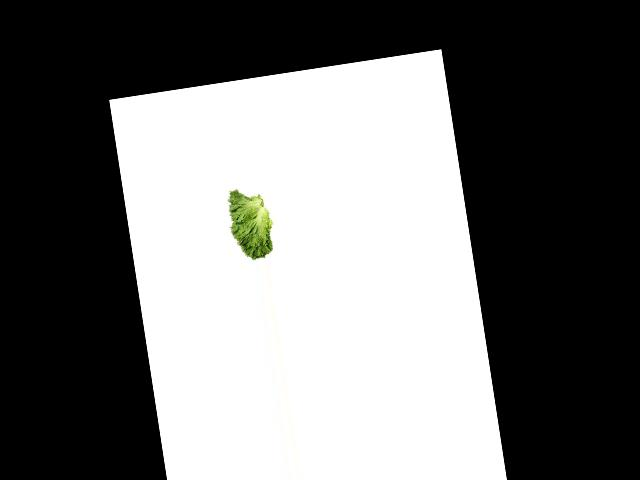lettuce: (219, 185, 280, 263)
